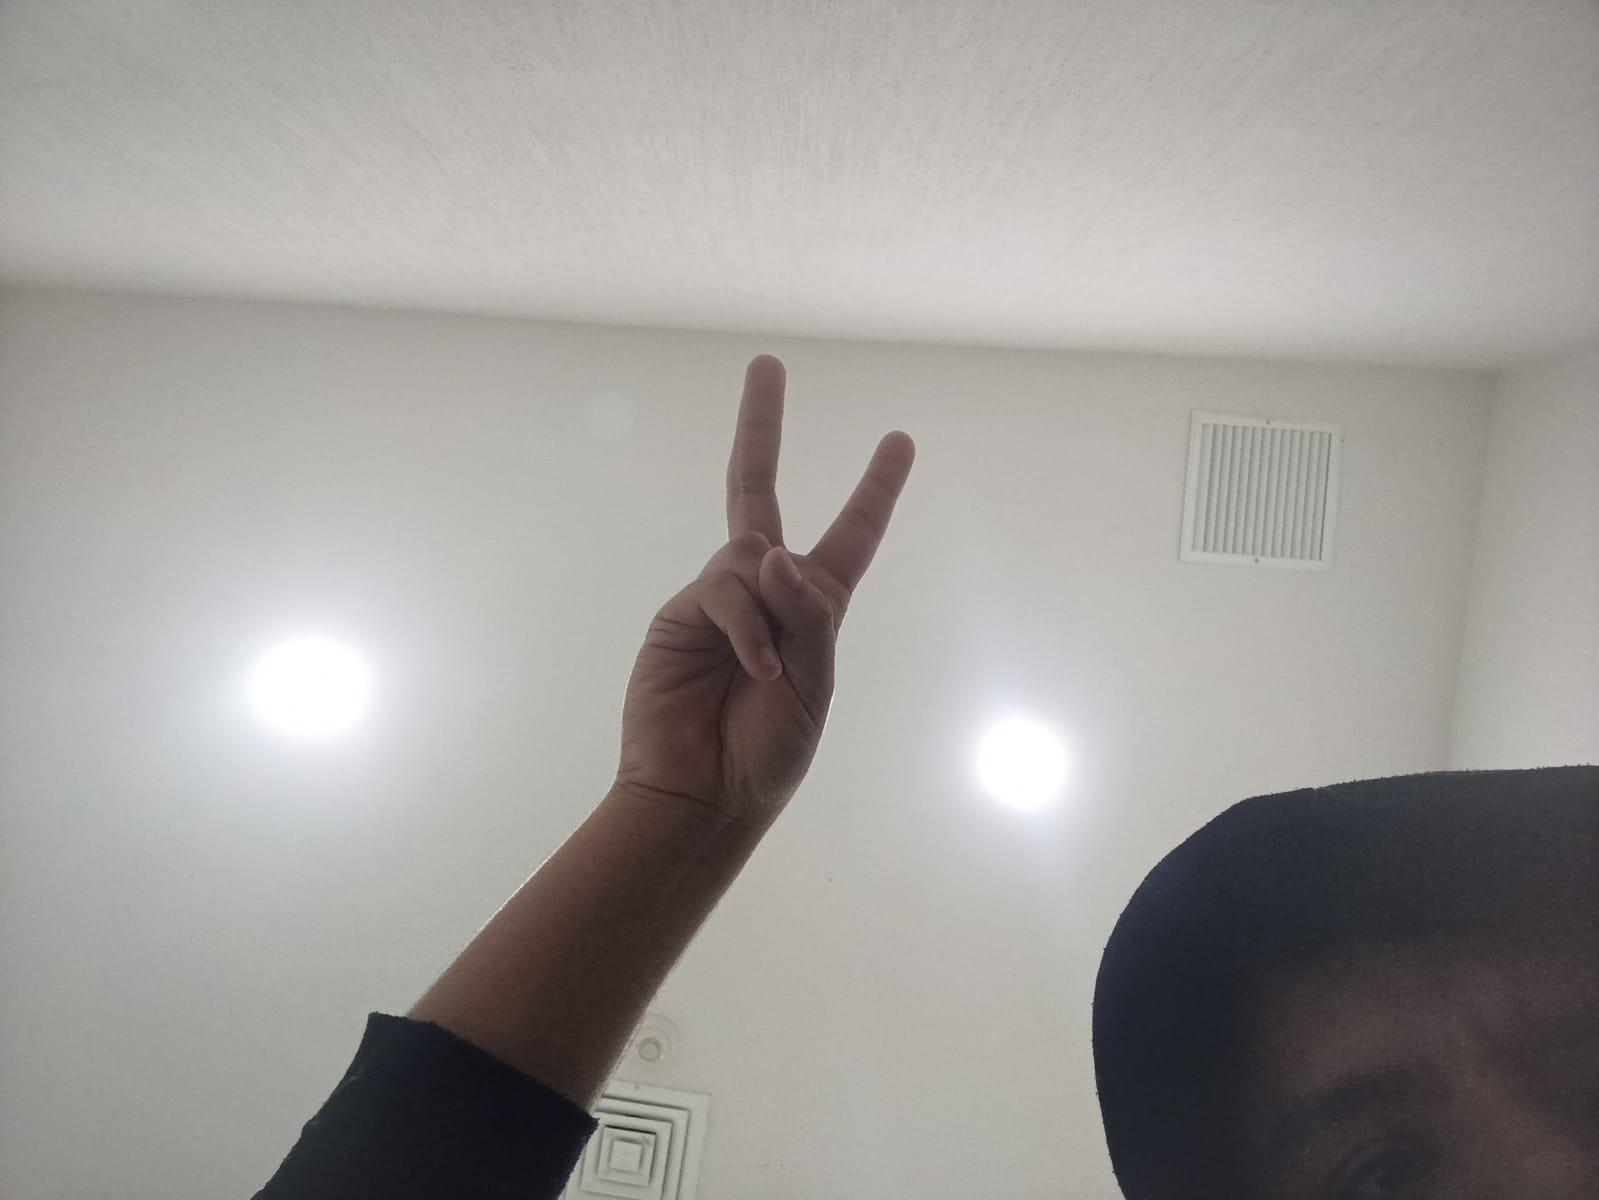Scissor: (554, 332, 984, 828)
